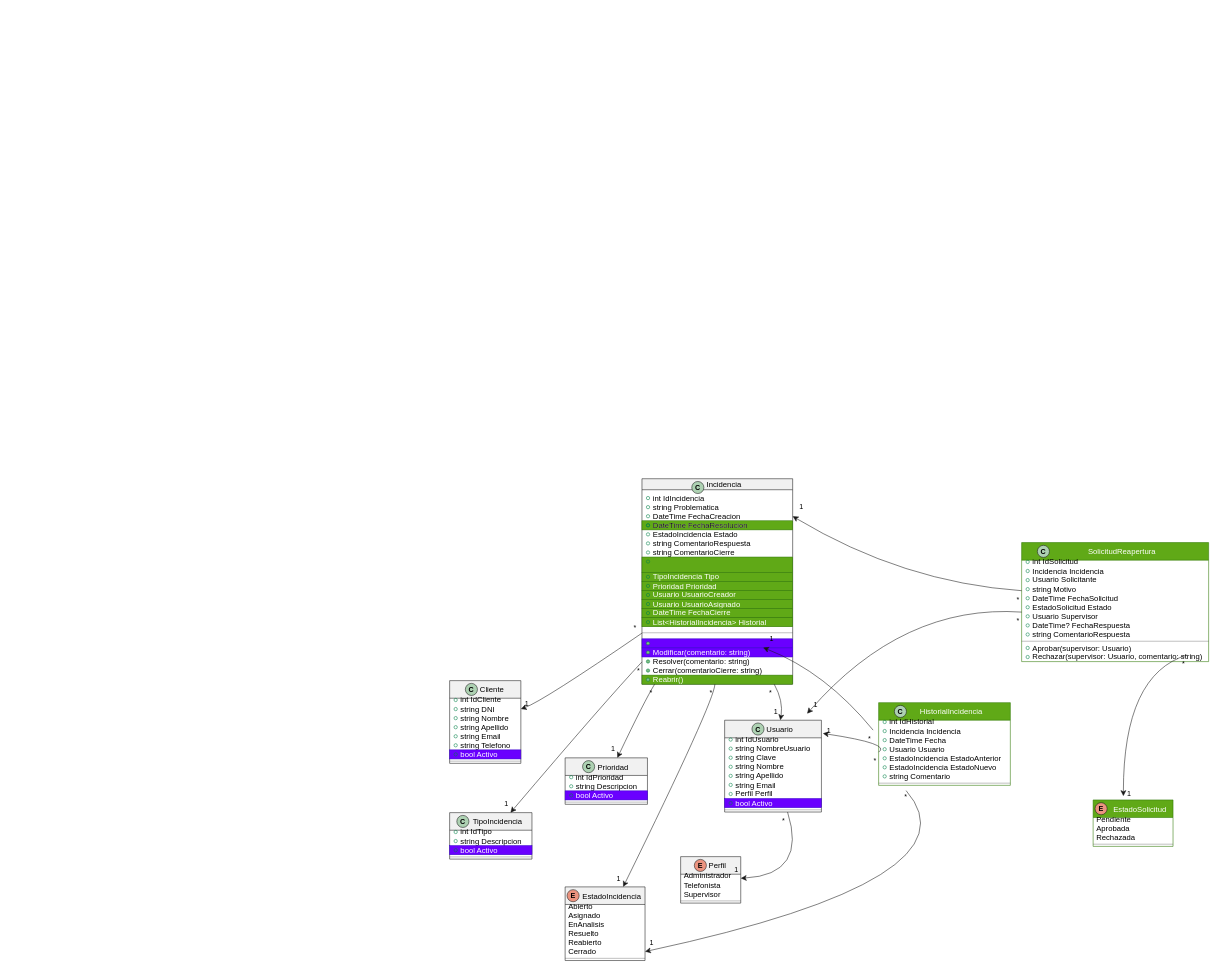
This 1218x970 diagram has some shape labels left out. Here are the shapes that lost their labels. From the top down, the centre of each, then its label:
At point 717,564: "Cliente Cliente".
At point 717,643: "Reasignar(nuevoAsignado: Usuario)".
